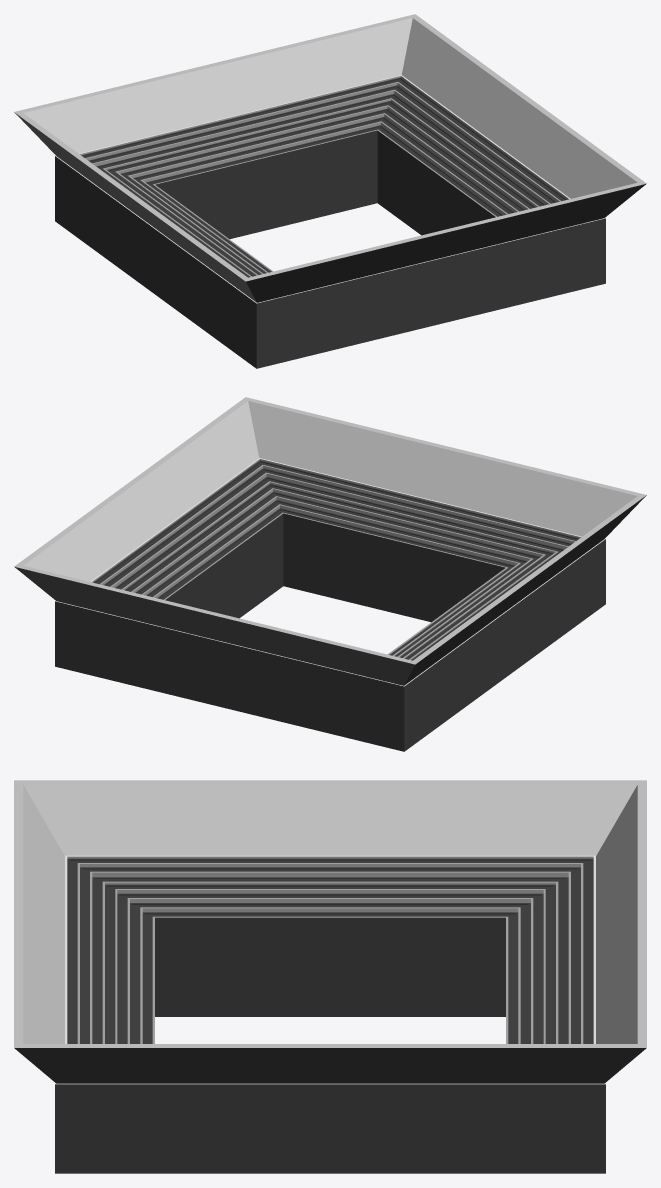
The model's file is seats.fbx.
3 renders of one model, top to bottom at view 1: azimuth 30°, elevation 25°; view 2: azimuth 150°, elevation 25°; view 3: azimuth 270°, elevation 25°, orthographic. The views are drawn at different scales.
Parts seen in each view (by area): view 1: Cube; view 2: Cube; view 3: Cube.
Boxes of the visible parts, bbox=[...] form: Cube: bbox=[14, 14, 646, 368]; Cube: bbox=[14, 397, 646, 751]; Cube: bbox=[14, 780, 646, 1173].
Bounding box in the file's own units: 325 × 325 × 100.
